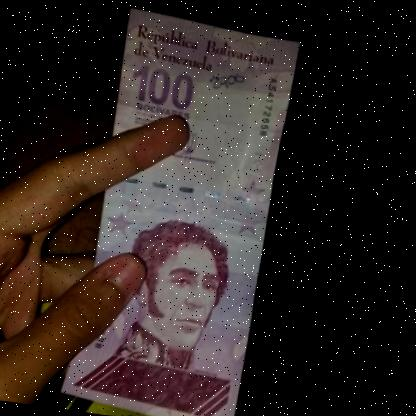one_hundred-front-vef: (71, 7, 296, 416)
